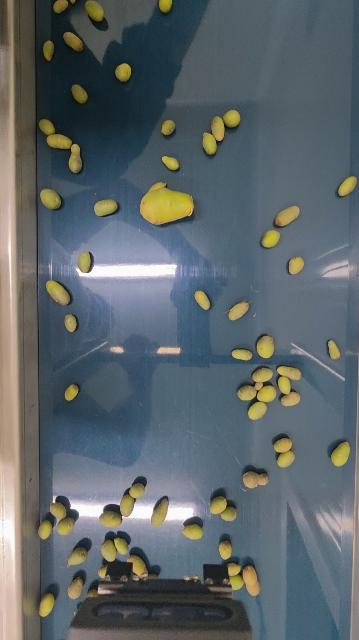Baby Potato: (139, 185, 196, 226), (46, 279, 71, 307), (274, 204, 302, 228), (242, 564, 262, 597), (331, 438, 352, 468), (40, 186, 64, 211), (242, 470, 271, 489), (151, 497, 169, 527), (228, 299, 252, 321), (84, 0, 106, 23), (338, 174, 359, 198), (256, 334, 276, 359), (63, 30, 85, 52), (94, 198, 119, 217), (256, 382, 278, 403), (38, 591, 55, 618), (209, 114, 226, 141), (201, 130, 218, 156), (68, 143, 82, 174), (251, 366, 275, 384), (278, 364, 303, 381), (100, 538, 117, 563), (262, 228, 282, 249), (68, 546, 88, 567), (248, 400, 268, 421), (46, 133, 72, 149), (71, 83, 89, 105), (129, 553, 147, 575), (100, 510, 122, 528), (237, 383, 259, 401), (195, 289, 212, 312), (68, 576, 84, 600), (223, 108, 242, 128), (209, 495, 228, 515), (56, 516, 75, 536), (182, 523, 204, 540), (279, 390, 302, 406), (48, 501, 68, 519), (288, 255, 305, 276), (77, 250, 92, 273), (231, 347, 254, 362), (119, 494, 134, 517), (277, 449, 295, 468), (274, 436, 294, 453), (115, 62, 132, 82), (38, 519, 53, 541), (328, 338, 342, 361), (42, 39, 56, 62), (161, 155, 181, 171), (277, 374, 293, 394), (218, 539, 233, 560), (63, 313, 78, 333), (129, 481, 146, 498), (222, 505, 239, 522), (38, 118, 55, 135), (113, 537, 129, 555), (64, 383, 79, 401), (161, 118, 176, 136), (158, 0, 174, 14), (226, 562, 242, 576), (52, 0, 69, 13), (149, 181, 167, 192), (97, 566, 107, 579)
